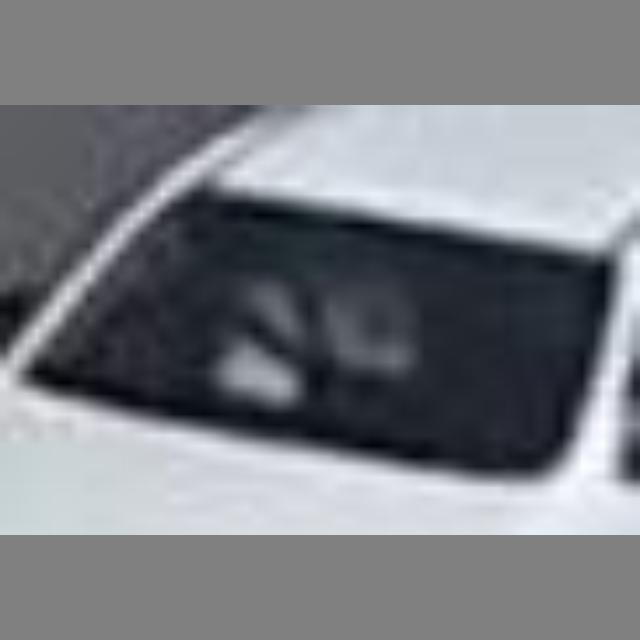pakai: (199, 231, 409, 378)
